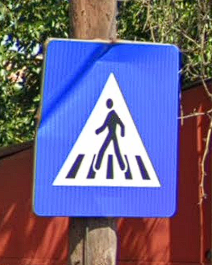trecere_pietoni: (31, 34, 178, 218)
